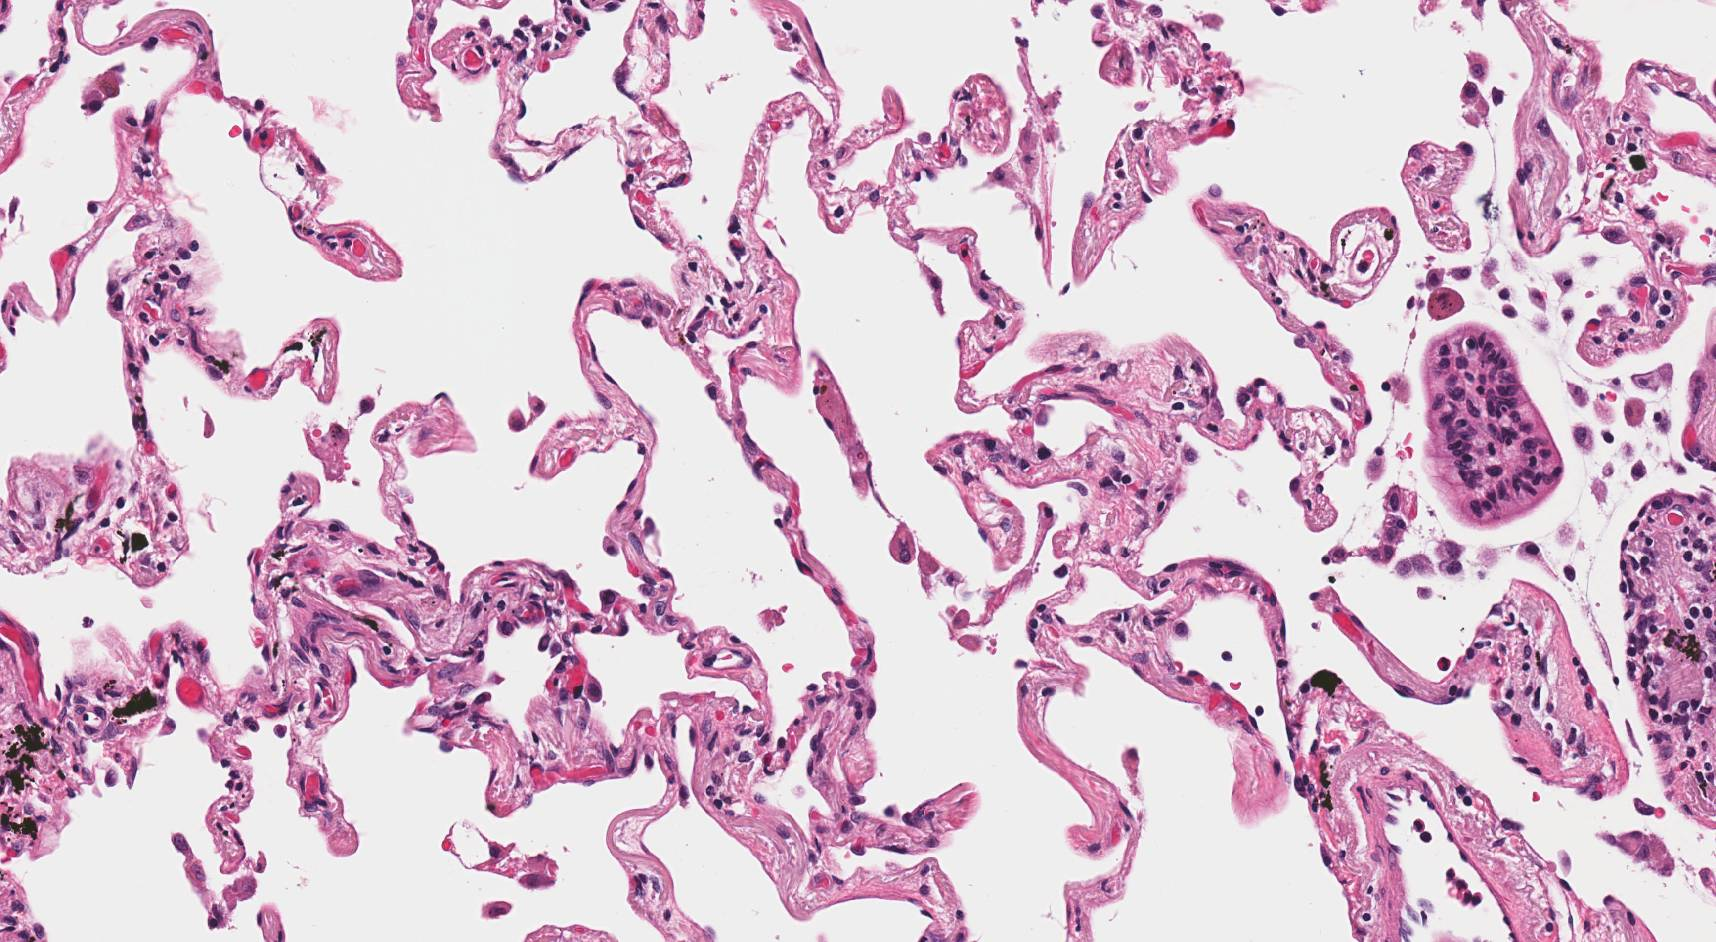stas: (1421, 322, 1567, 531)
